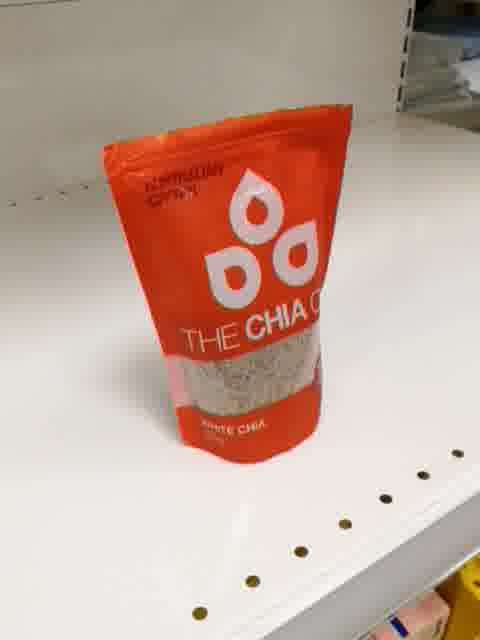whitechia: (102, 101, 353, 466)
